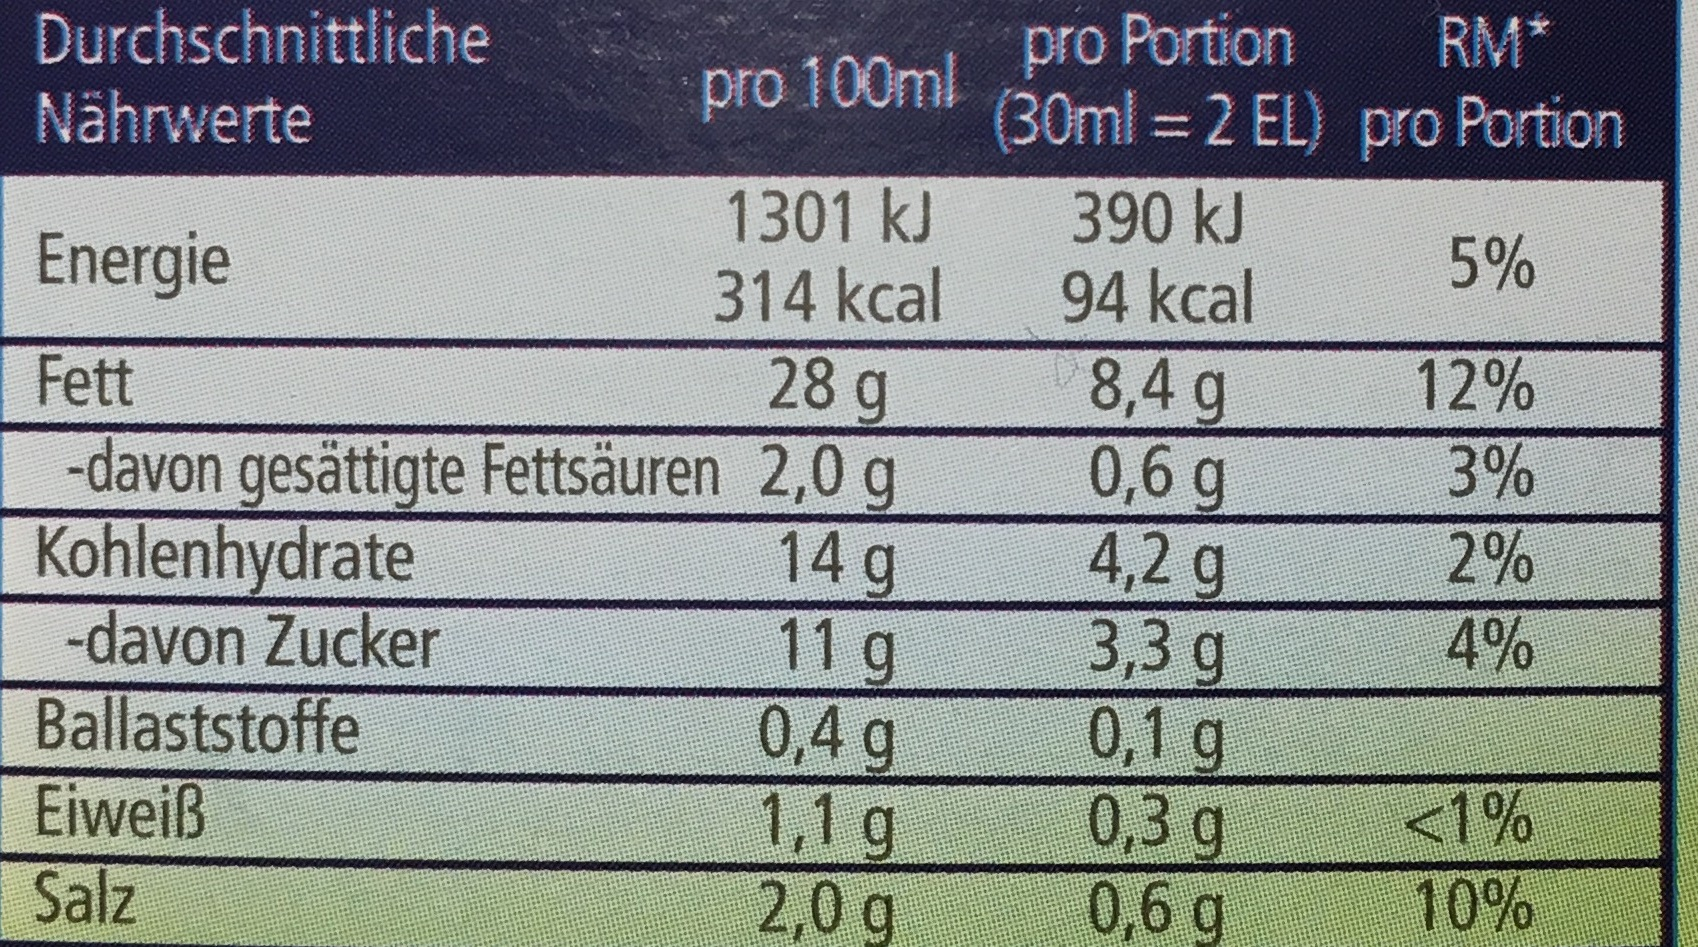column: (31, 12, 693, 944), (991, 2, 1327, 947), (1362, 2, 1626, 947), (704, 55, 957, 946)
table: (1, 1, 1696, 946)
